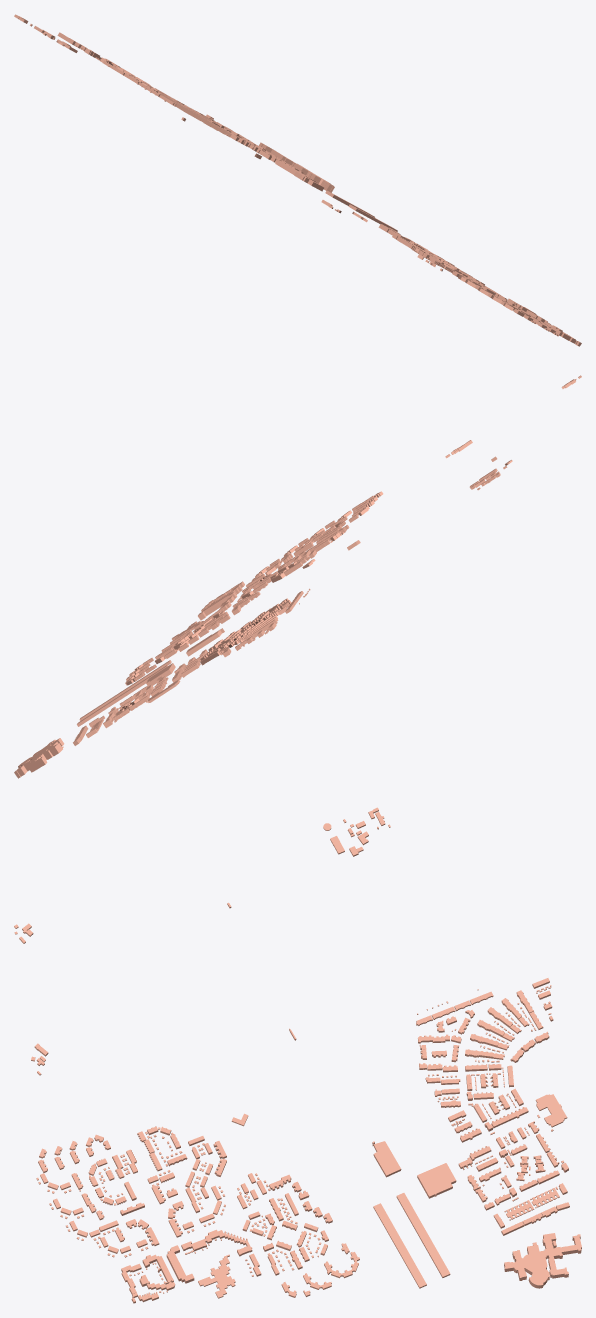
3 views of the same model, one above another, from view 1: azimuth 30°, elevation 25°; view 2: azimuth 150°, elevation 25°; view 3: azimuth 270°, elevation 25° (orthographic). The views are drawn at different scales.
Size of the model in its own units: 1002 by 748 by 1257.
